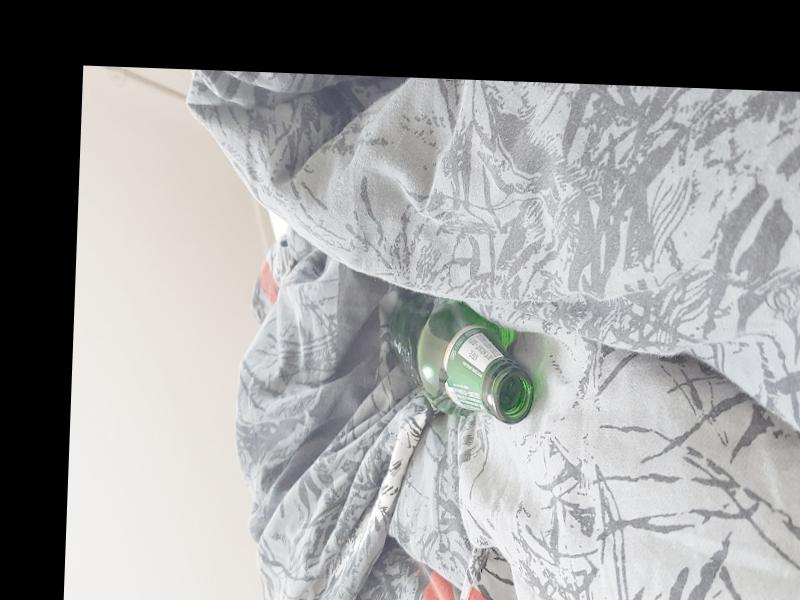Beer: (387, 299, 537, 420)
